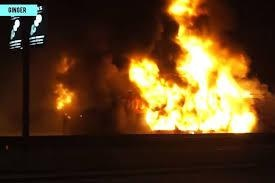fire: (125, 3, 258, 134), (51, 54, 75, 112), (53, 84, 74, 111)
